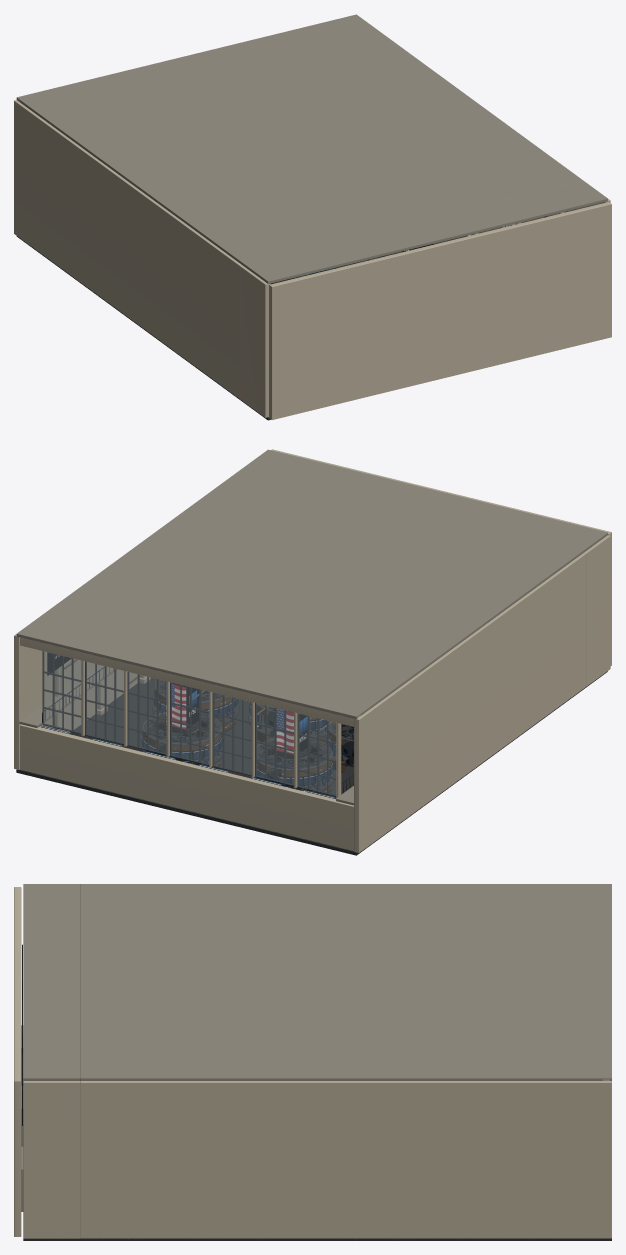
Rendered from exchange.glb.
The picture shows the model from 3 angles, top to bottom: view 1: azimuth 30°, elevation 25°; view 2: azimuth 150°, elevation 25°; view 3: azimuth 270°, elevation 25°; orthographic projection. The views are drawn at different scales.
Parts seen in each view (by area): view 1: EX3_StoneDark, EX3_Stone; view 2: EX3_StoneDark, EX3_Stone, EX3_Glass, EX3_PaintedMetal, EX3_CharcoalCarpetPBR, EX3_Equipment, EX3_Markets, EX3_Tray, EX3_FasciaPBR, EX3_Flag, EX3_NYSE, EX3_Steel; view 3: EX3_StoneDark, EX3_Stone, EX3_CharcoalCarpetPBR.
Part boxes in pixels (x1,y1,x2,y2): EX3_StoneDark: [16, 14, 607, 283]; EX3_Stone: [14, 99, 611, 419]; EX3_StoneDark: [16, 449, 607, 805]; EX3_Stone: [14, 449, 611, 852]; EX3_Glass: [43, 651, 335, 795]; EX3_PaintedMetal: [42, 651, 353, 796]; EX3_CharcoalCarpetPBR: [16, 671, 607, 855]; EX3_Equipment: [47, 652, 353, 795]; EX3_Markets: [39, 693, 353, 798]; EX3_Tray: [141, 679, 353, 792]; EX3_FasciaPBR: [143, 684, 353, 794]; EX3_Flag: [166, 683, 293, 754]; EX3_NYSE: [187, 686, 307, 751]; EX3_Steel: [64, 659, 353, 770]; EX3_StoneDark: [21, 884, 611, 1211]; EX3_Stone: [14, 887, 611, 1238]; EX3_CharcoalCarpetPBR: [23, 1238, 611, 1240].
Bounding box in the file's own units: 32.5 × 12.5 × 41.65.
16 materials, 5 textured.
